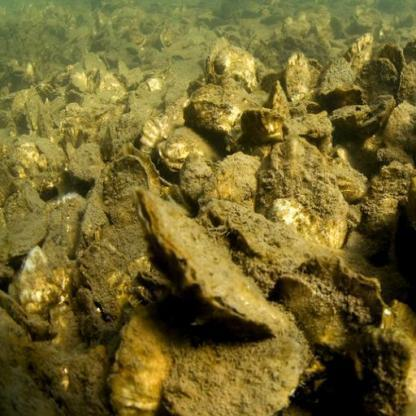Oyster-Closed: (133, 192, 277, 332), (165, 309, 308, 416), (255, 138, 352, 249), (290, 252, 389, 325), (112, 312, 175, 416), (208, 205, 309, 268), (345, 330, 416, 416), (272, 275, 334, 344), (14, 241, 72, 314), (198, 153, 261, 220), (102, 157, 147, 223), (314, 55, 358, 99), (386, 99, 416, 163), (139, 110, 175, 163), (244, 109, 285, 147), (347, 27, 376, 77), (282, 53, 311, 101), (219, 46, 255, 82), (203, 35, 228, 78)
